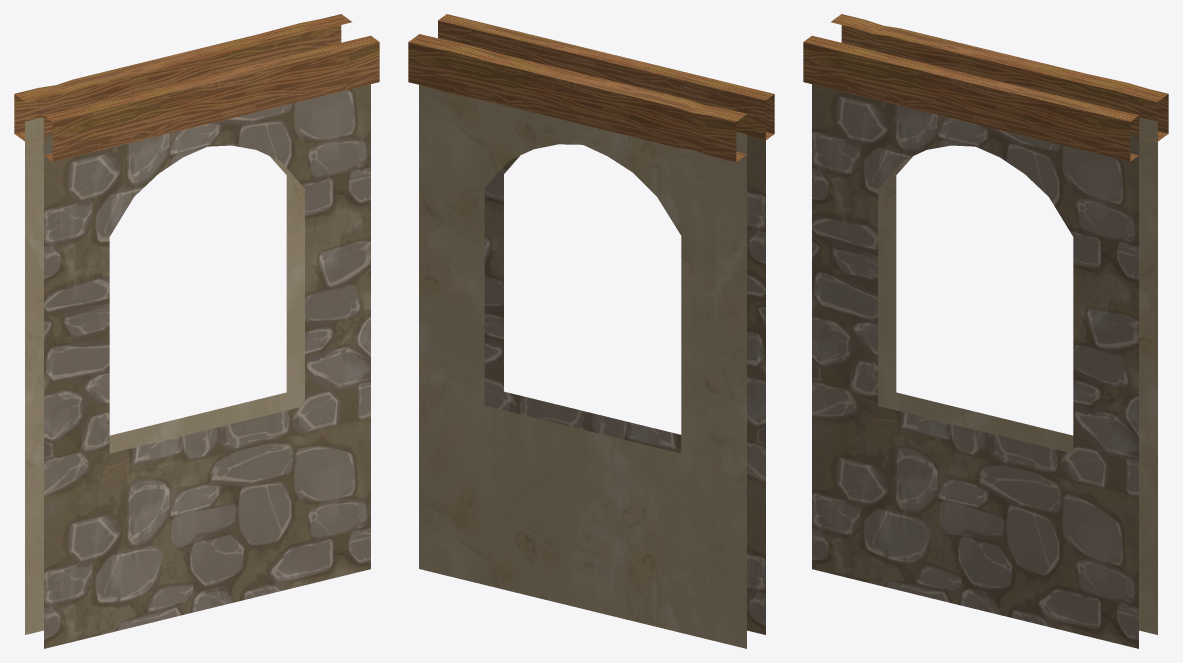
The model's file is Wall_UnevenBrick_Window_Wide_Round.glb.
3 renders of one model, left to right at view 1: azimuth 30°, elevation 25°; view 2: azimuth 150°, elevation 25°; view 3: azimuth 330°, elevation 25°, orthographic.
Parts seen in each view (by area): view 1: Wall_UnevenBrick_Window_Wide_Round; view 2: Wall_UnevenBrick_Window_Wide_Round; view 3: Wall_UnevenBrick_Window_Wide_Round.
Boxes of the visible parts, box(x1,y1,x2,y2) form: Wall_UnevenBrick_Window_Wide_Round: box(14, 14, 379, 648); Wall_UnevenBrick_Window_Wide_Round: box(408, 14, 774, 648); Wall_UnevenBrick_Window_Wide_Round: box(803, 14, 1168, 648).
Bounding box in the file's own units: 2 × 3.12 × 0.4065.
Materials: 3 (3 with a texture image).
